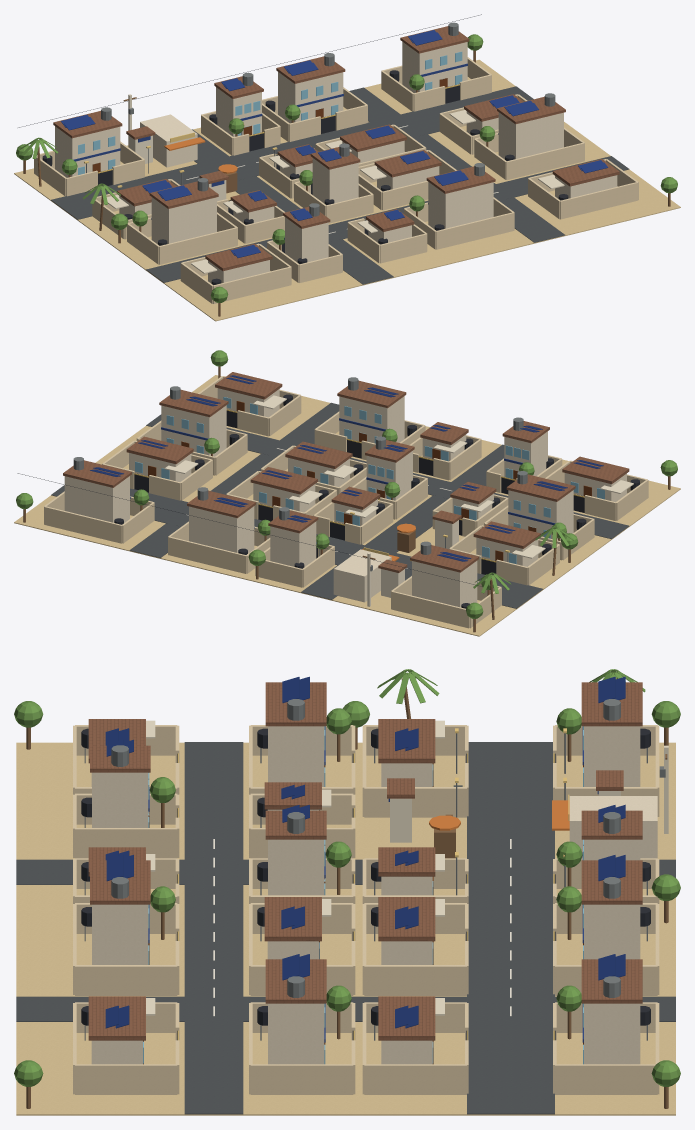
File: greenbank-estates.glb
3 views of the same model, one above another, from view 1: azimuth 30°, elevation 25°; view 2: azimuth 150°, elevation 25°; view 3: azimuth 270°, elevation 25° (orthographic). The views are drawn at different scales.
Visible parts, largest first — view 1: atk_ground, atk_greenbank-avenue, atk_greenbank-east-street, atk_greenbank-cross-street, atk_c-w_block, atk_c-far_block, atk_d-east_block, atk_greenbank-south-street, atk_n-east_block, atk_n-far_block, atk_nw_block, atk_shop_provisions (+50 smaller); view 2: atk_ground, atk_greenbank-cross-street, atk_greenbank-avenue, atk_greenbank-east-street, atk_n-east_block, atk_n-far_block, atk_nw_block, atk_d-east_block, atk_greenbank-south-street, atk_c-far_block, atk_shop_provisions, atk_c-w_block (+50 smaller); view 3: atk_ground, atk_greenbank-avenue, atk_greenbank-south-street, atk_n-far_block, atk_c-far_block, atk_d-east_block, atk_greenbank-east-street, atk_c-w_block, atk_c-e_block, atk_c-far_wall_e, atk_s-east_wall_e, atk_s-far_wall_e (+57 smaller).
Part boxes in pixels (x1=…): atk_ground: x1=14, y1=59, x2=680, y2=321; atk_greenbank-avenue: x1=51, y1=86, x2=533, y2=219; atk_greenbank-east-street: x1=349, y1=87, x2=564, y2=242; atk_greenbank-cross-street: x1=192, y1=129, x2=393, y2=284; atk_c-w_block: x1=151, y1=197, x2=216, y2=244; atk_c-far_block: x1=498, y1=112, x2=563, y2=159; atk_d-east_block: x1=428, y1=182, x2=493, y2=228; atk_greenbank-south-street: x1=146, y1=156, x2=629, y2=282; atk_n-east_block: x1=278, y1=72, x2=343, y2=123; atk_n-far_block: x1=402, y1=42, x2=467, y2=92; atk_nw_block: x1=55, y1=126, x2=120, y2=177; atk_shop_provisions: x1=140, y1=114, x2=197, y2=167; atk_ground: x1=14, y1=375, x2=680, y2=636; atk_greenbank-cross-street: x1=301, y1=444, x2=504, y2=599; atk_greenbank-avenue: x1=51, y1=485, x2=542, y2=608; atk_greenbank-east-street: x1=129, y1=402, x2=339, y2=557; atk_n-east_block: x1=189, y1=506, x2=254, y2=553; atk_n-far_block: x1=64, y1=476, x2=129, y2=522; atk_nw_block: x1=412, y1=561, x2=477, y2=607; atk_d-east_block: x1=339, y1=396, x2=404, y2=443; atk_greenbank-south-street: x1=146, y1=414, x2=628, y2=538; atk_c-far_block: x1=161, y1=405, x2=226, y2=456; atk_shop_provisions: x1=333, y1=549, x2=391, y2=602; atk_c-w_block: x1=508, y1=490, x2=573, y2=540; atk_ground: x1=16, y1=742, x2=675, y2=1115; atk_greenbank-avenue: x1=467, y1=742, x2=554, y2=1114; atk_greenbank-south-street: x1=184, y1=742, x2=243, y2=1114; atk_n-far_block: x1=584, y1=1003, x2=640, y2=1064; atk_c-far_block: x1=268, y1=1003, x2=324, y2=1064; atk_d-east_block: x1=92, y1=904, x2=148, y2=964; atk_greenbank-east-street: x1=16, y1=996, x2=675, y2=1021; atk_c-w_block: x1=268, y1=726, x2=324, y2=786; atk_c-e_block: x1=268, y1=839, x2=324, y2=895; atk_c-far_wall_e: x1=250, y1=1064, x2=353, y2=1094; atk_s-east_wall_e: x1=364, y1=965, x2=466, y2=995; atk_s-far_wall_e: x1=364, y1=1064, x2=466, y2=1094.
Bounding box in the file's own units: 61.36 × 7.5 × 45.5.
19 materials, 5 textured.
